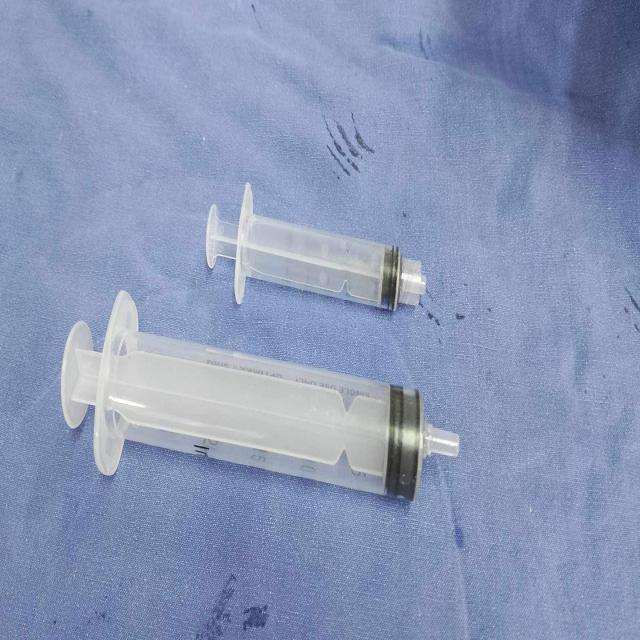General: (3, 3, 638, 636)
Sharps: (60, 288, 460, 504), (205, 180, 427, 314)
